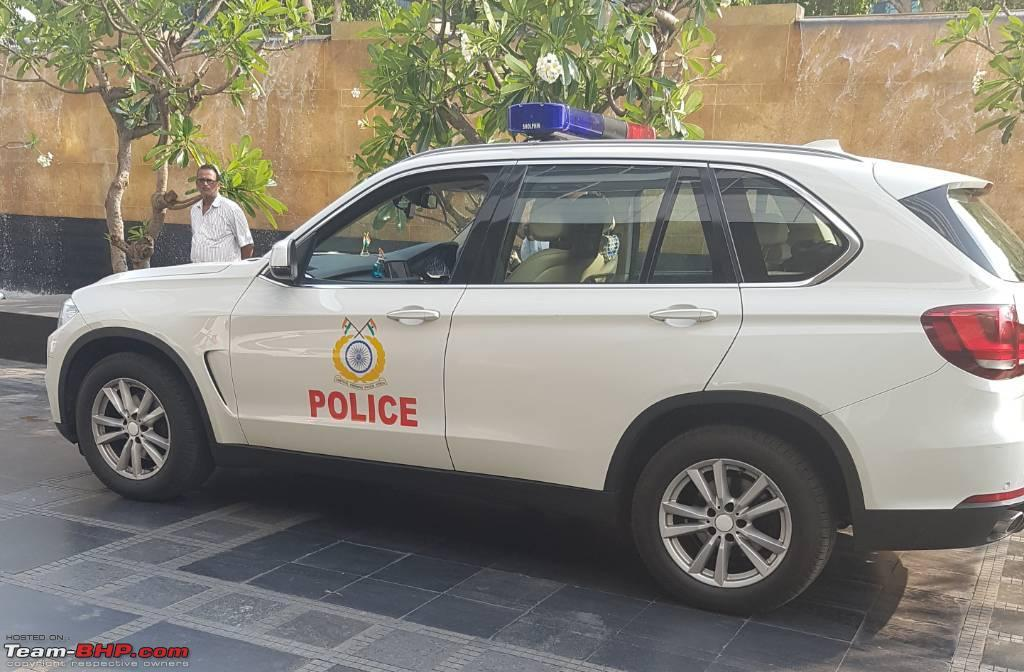Emergency-Vehicles: (31, 72, 1024, 643)
